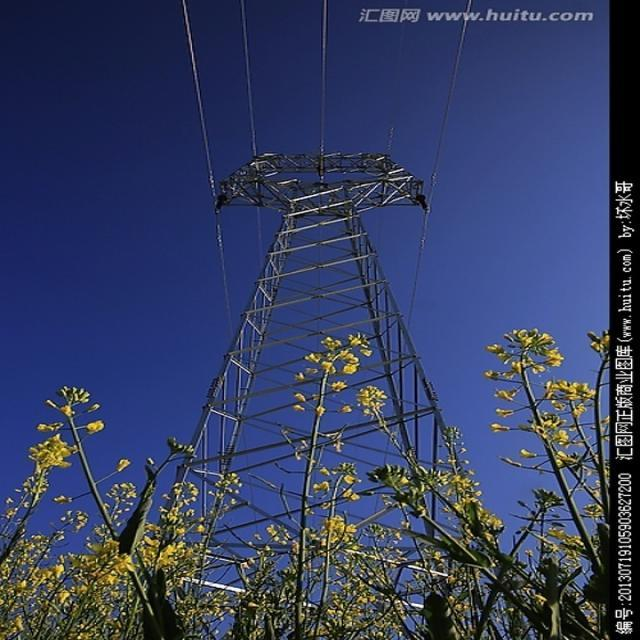utility poles: (176, 134, 513, 594)
